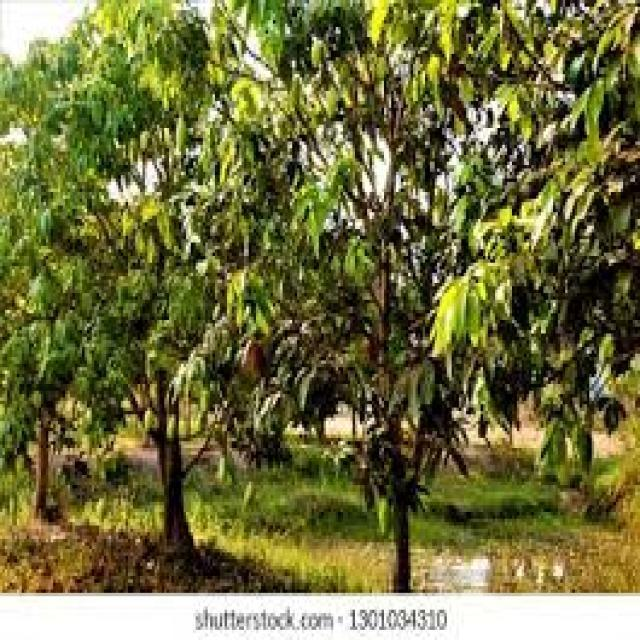tree: (242, 0, 600, 589), (16, 0, 253, 579)
